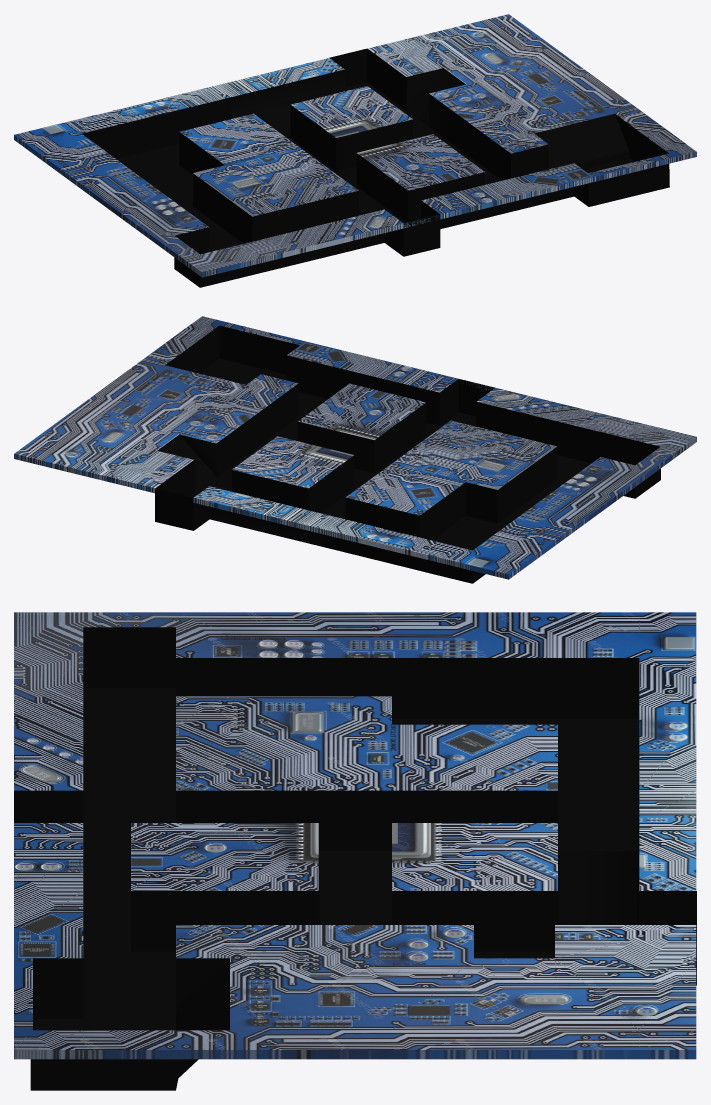
The model's file is BrutePumpFloor 2.fbx.
3 renders of one model, top to bottom at view 1: azimuth 30°, elevation 25°; view 2: azimuth 150°, elevation 25°; view 3: azimuth 270°, elevation 25°, orthographic. The views are drawn at different scales.
Parts seen in each view (by area): view 1: polySurface8; view 2: polySurface8; view 3: polySurface8.
Part boxes in pixels (bbox=[...]): polySurface8: bbox=[14, 14, 696, 287]; polySurface8: bbox=[14, 316, 696, 583]; polySurface8: bbox=[14, 612, 696, 1090].
Size of the model in its own units: 19.16 by 1.24 by 12.63.
